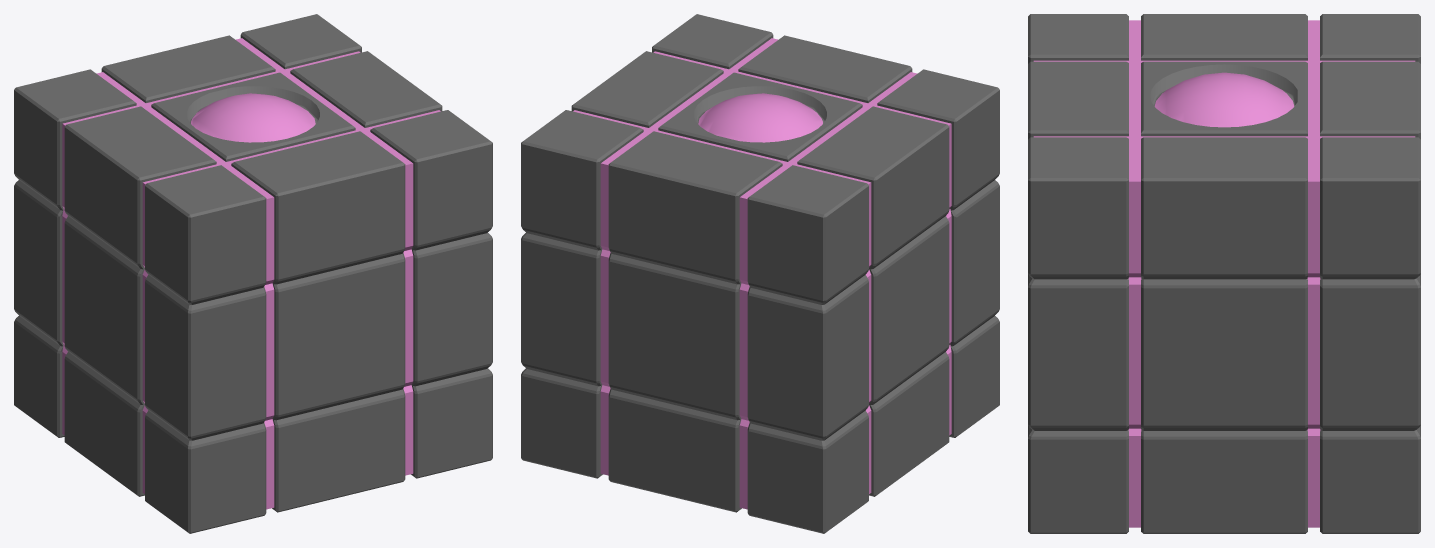
3 renders of one model, left to right at view 1: azimuth 30°, elevation 25°; view 2: azimuth 150°, elevation 25°; view 3: azimuth 270°, elevation 25°, orthographic. The views are drawn at different scales.
Visible parts, largest first — view 1: cubducu; view 2: cubducu; view 3: cubducu.
Part boxes in pixels (bbox=[...]): cubducu: bbox=[14, 14, 492, 533]; cubducu: bbox=[521, 14, 999, 533]; cubducu: bbox=[1028, 14, 1420, 533].
Size of the model in its own units: 206 by 214 by 206.
